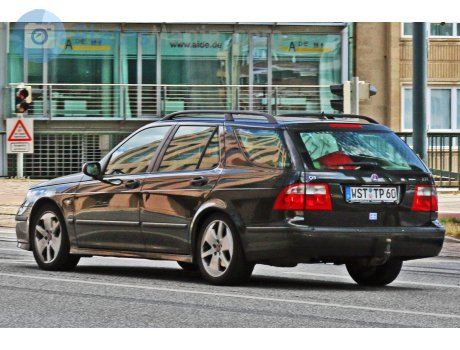License Plates: (350, 187, 393, 195)
